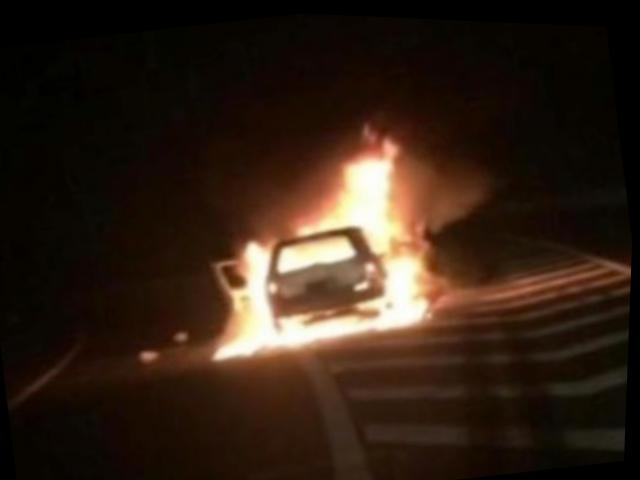fire: (181, 110, 446, 370)
